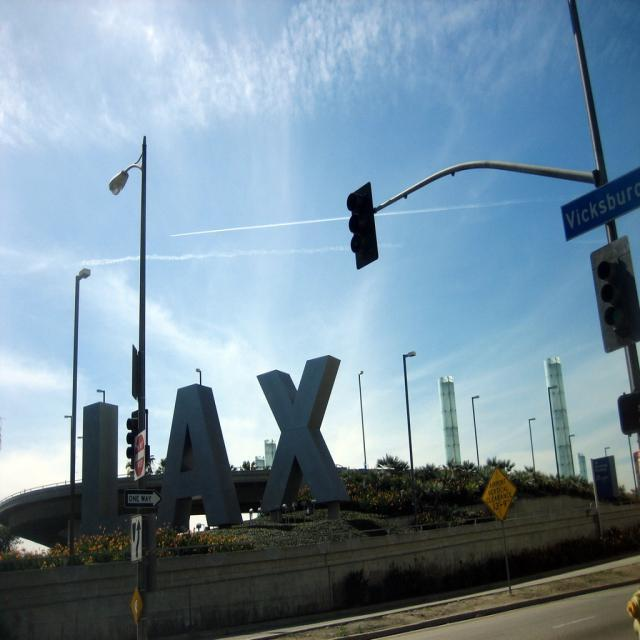off traffic light: (595, 255, 631, 331), (346, 182, 377, 265)
road_sign: (134, 429, 146, 481)
